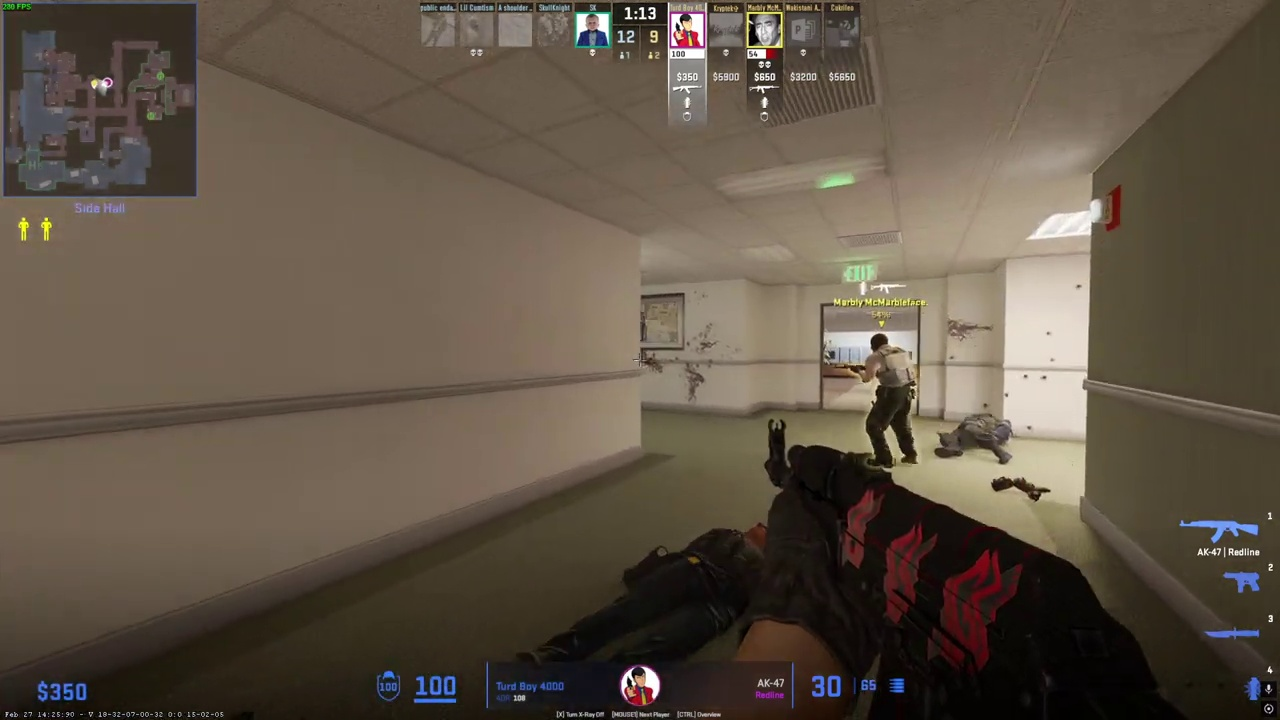Terrorist: (862, 333, 917, 466)
